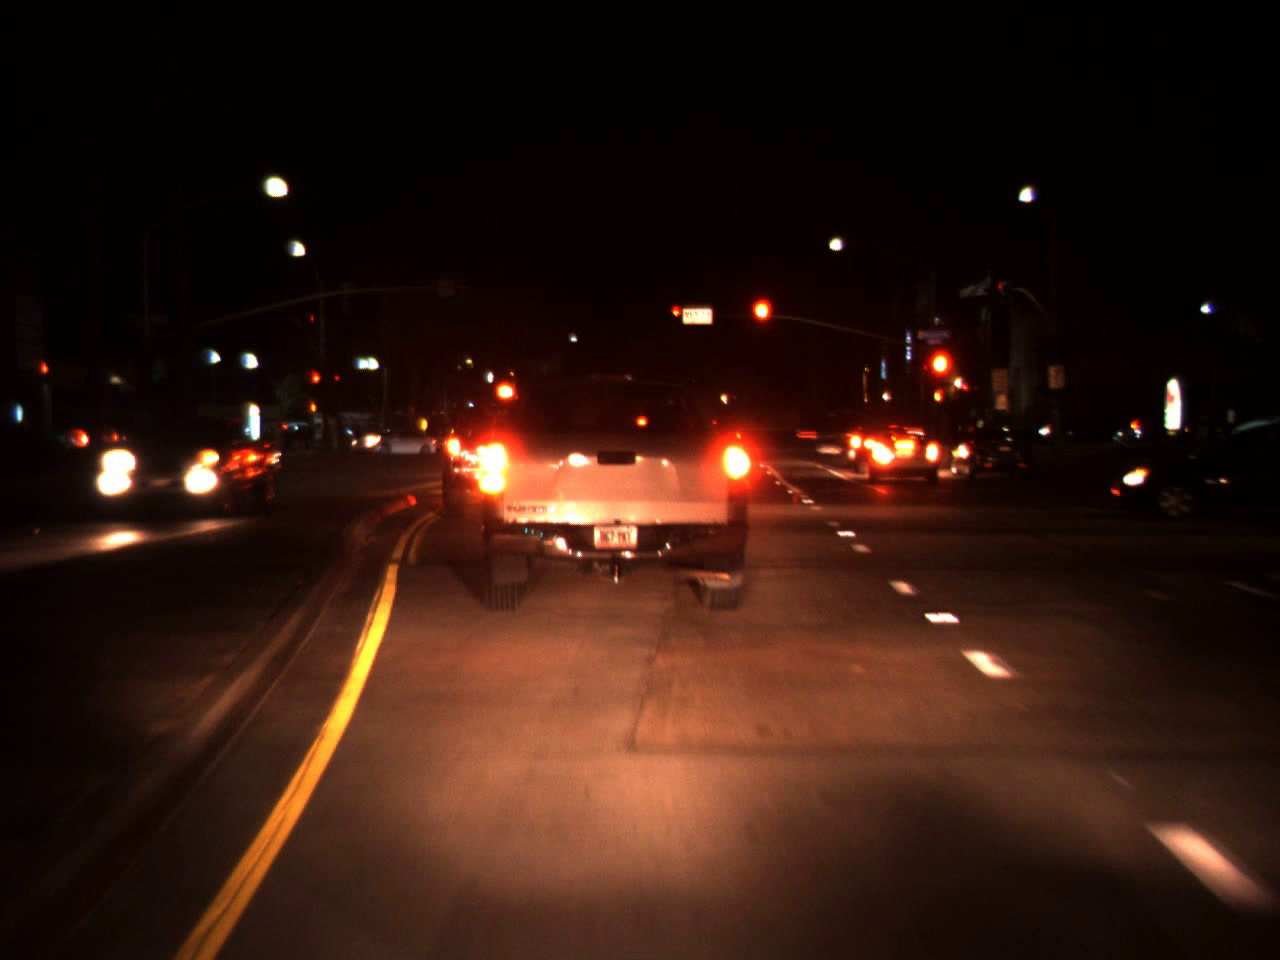stop: (924, 344, 957, 411), (748, 295, 775, 349), (310, 370, 322, 397), (671, 304, 683, 328)
